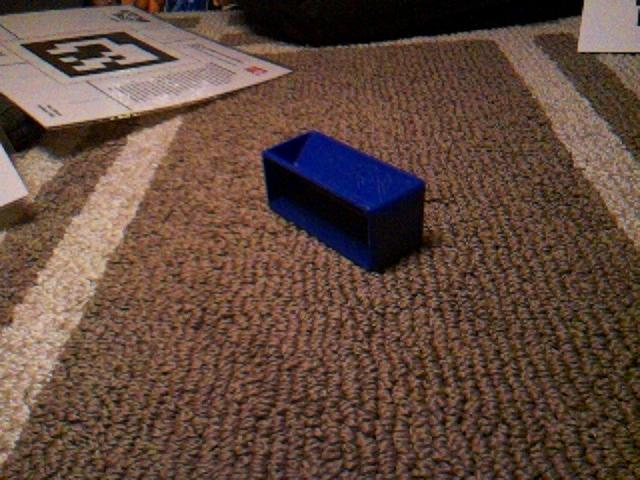blue: (260, 128, 427, 274)
